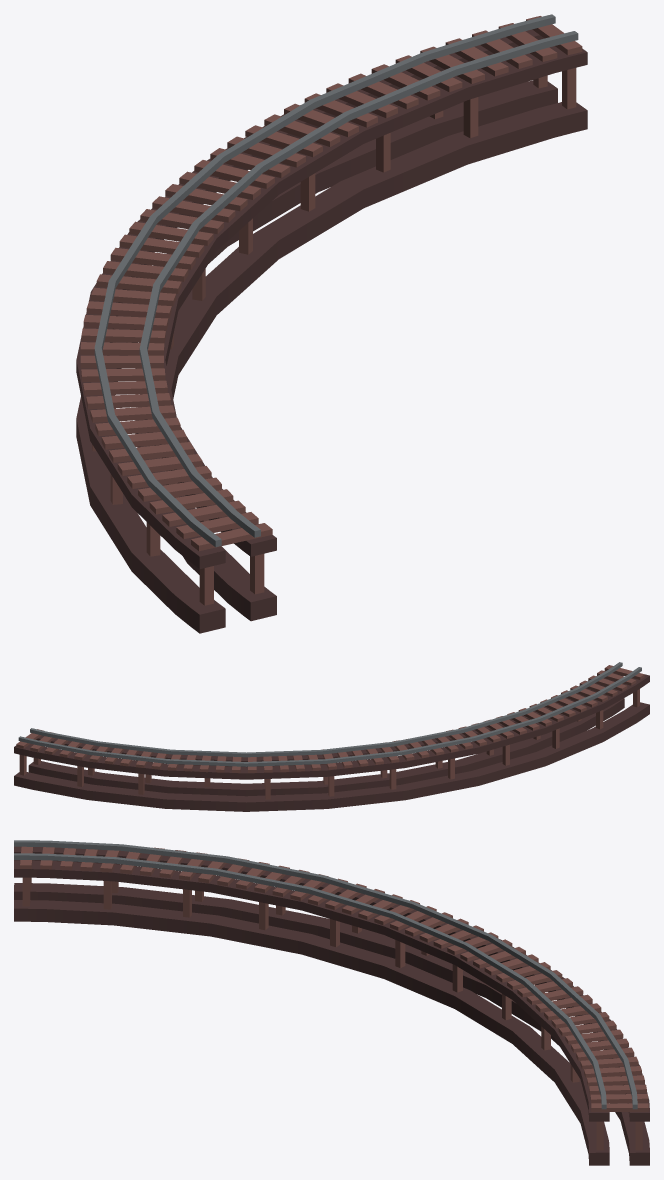
The model's file is DarkRoseWoodMechLarge0_85GaugeRightTurn1.fbx.
3 renders of one model, top to bottom at view 1: azimuth 30°, elevation 25°; view 2: azimuth 150°, elevation 25°; view 3: azimuth 270°, elevation 25°, orthographic. The views are drawn at different scales.
Visible parts, largest first — view 1: DarkRoseWoodMechLarge0_85GaugeRightTurn1; view 2: DarkRoseWoodMechLarge0_85GaugeRightTurn1; view 3: DarkRoseWoodMechLarge0_85GaugeRightTurn1.
Part boxes in pixels (x1,y1,x2,y2): DarkRoseWoodMechLarge0_85GaugeRightTurn1: (76, 14, 587, 633); DarkRoseWoodMechLarge0_85GaugeRightTurn1: (14, 662, 649, 811); DarkRoseWoodMechLarge0_85GaugeRightTurn1: (14, 840, 649, 1165).
Size of the model in its own units: 2098 by 221 by 2090.
